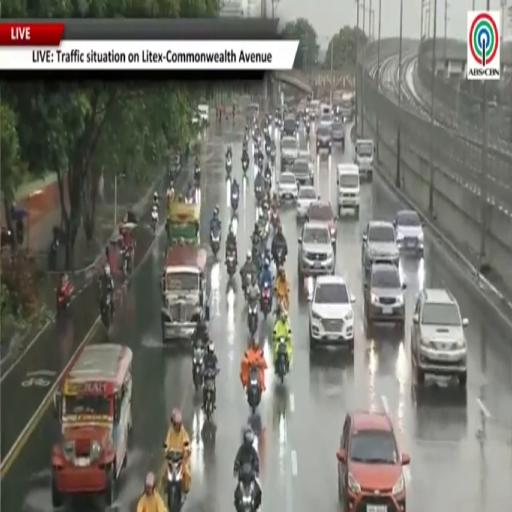car: (337, 411, 410, 511), (411, 288, 468, 387), (309, 276, 354, 354), (364, 263, 406, 330), (298, 221, 335, 278), (362, 220, 399, 275), (394, 210, 424, 255), (307, 200, 337, 243), (337, 164, 360, 217), (354, 139, 375, 182), (297, 186, 317, 218), (292, 157, 313, 186), (277, 172, 297, 200), (281, 136, 297, 170), (316, 125, 332, 154), (298, 149, 314, 175), (332, 121, 345, 147), (282, 116, 296, 138), (197, 103, 209, 125), (246, 103, 259, 122), (310, 100, 320, 120), (320, 114, 332, 127)
jeepney: (52, 344, 132, 506), (162, 246, 209, 343), (167, 201, 200, 246), (340, 92, 355, 121)
motorcycle: (167, 451, 184, 511), (237, 463, 255, 511), (247, 365, 261, 413), (204, 370, 216, 420), (276, 338, 288, 383), (192, 347, 204, 391), (56, 287, 72, 315), (100, 293, 112, 330), (261, 282, 272, 318), (248, 301, 258, 335), (258, 215, 269, 243), (210, 230, 220, 257), (242, 272, 252, 297), (227, 251, 236, 278), (123, 249, 131, 278), (255, 180, 264, 204), (275, 248, 285, 267), (231, 189, 239, 212), (270, 210, 279, 230), (152, 205, 158, 234), (194, 167, 200, 187), (265, 172, 272, 189), (242, 157, 249, 173), (254, 139, 259, 161), (226, 157, 232, 174), (270, 150, 275, 165), (265, 144, 270, 157), (306, 123, 310, 135)
truck: (339, 92, 355, 122)
